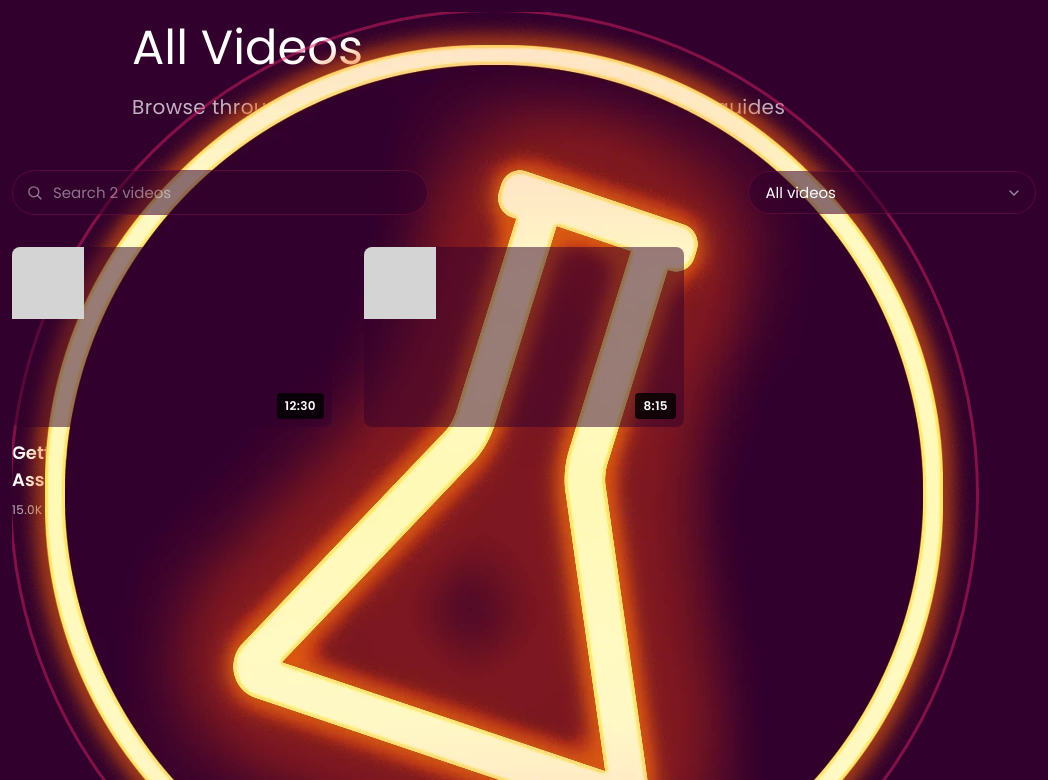
Test case: VideoGallery › text filter › narrows the list as you type
This screenshot has width=1048, height=780.
In the search field: (220, 192) 12,170 -> 428,215, type "lighting"
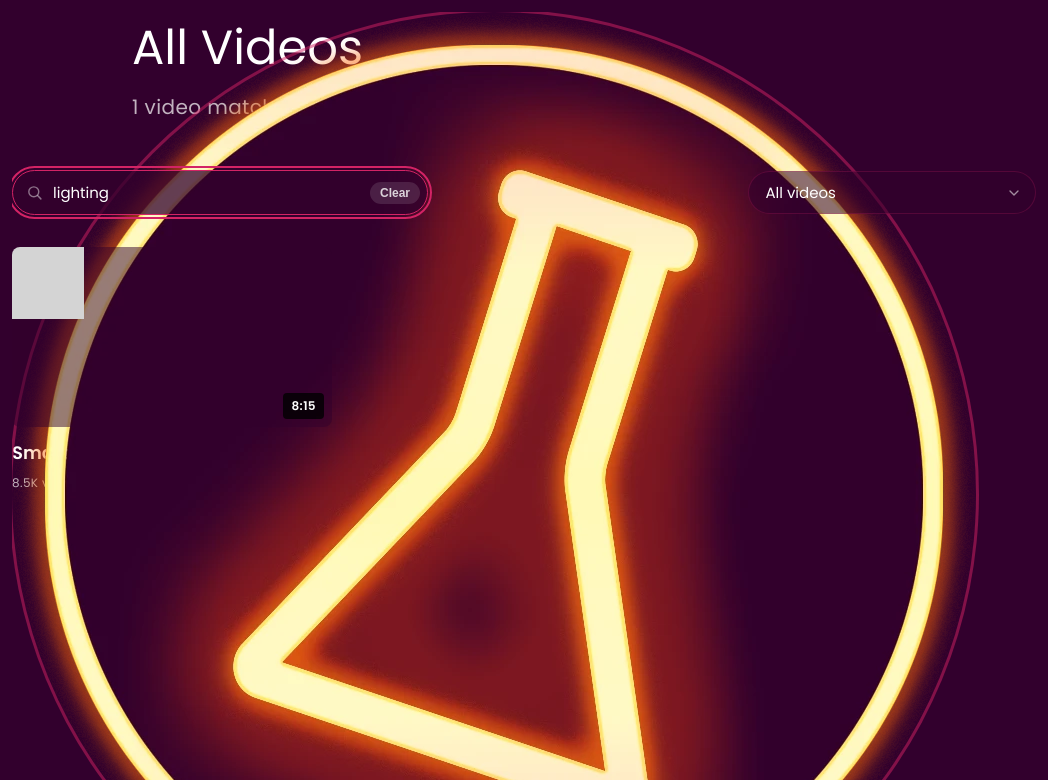
Expected: the link "Smart Lighting Guide" is shown, 12,440 -> 204,465
Expected: the link "Getting Started with Home Assistant" is gone
